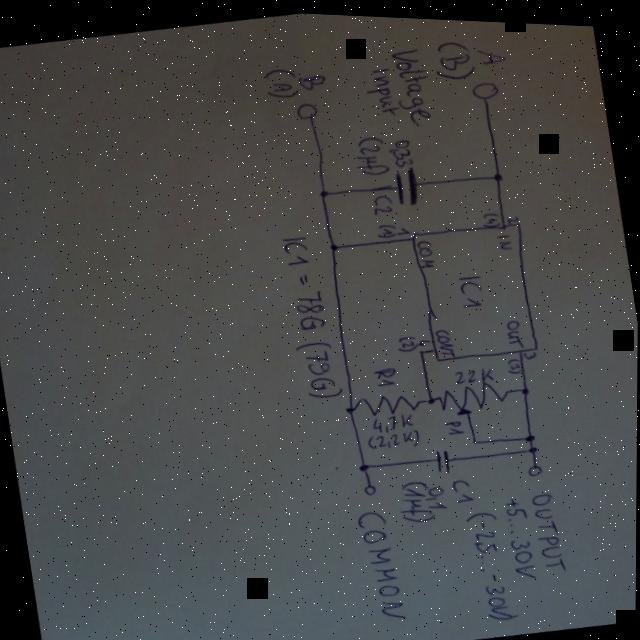capacitor: (393, 159, 422, 204), (435, 442, 455, 469)
junction: (318, 183, 332, 196), (360, 457, 374, 469), (493, 165, 506, 177), (524, 426, 537, 438), (527, 438, 540, 449), (346, 398, 357, 410), (427, 390, 438, 401), (329, 238, 341, 248), (521, 380, 532, 390), (472, 433, 481, 440), (419, 344, 427, 351)
resistor: (436, 369, 515, 416), (357, 383, 424, 416)
terminal: (470, 73, 503, 99), (295, 95, 323, 118), (528, 456, 546, 472), (364, 478, 381, 493)
text: (276, 226, 348, 399), (355, 502, 411, 620), (466, 502, 522, 619), (390, 40, 440, 126), (503, 489, 542, 578), (531, 484, 571, 569), (362, 57, 404, 115), (432, 29, 478, 79), (396, 473, 440, 521), (353, 129, 391, 173), (367, 421, 423, 449), (264, 61, 301, 98), (457, 267, 490, 304), (372, 407, 416, 430), (454, 359, 498, 381), (389, 132, 416, 164), (477, 37, 510, 62), (435, 321, 458, 354), (425, 479, 452, 507), (298, 67, 331, 89), (373, 359, 401, 384), (452, 471, 477, 499), (506, 312, 526, 344), (372, 188, 395, 215), (418, 234, 438, 263), (444, 412, 468, 433), (397, 329, 420, 349), (377, 216, 399, 236), (496, 225, 516, 246), (507, 351, 525, 370), (485, 206, 503, 221), (397, 220, 413, 231), (418, 332, 431, 345), (507, 209, 522, 219), (526, 344, 538, 354)
